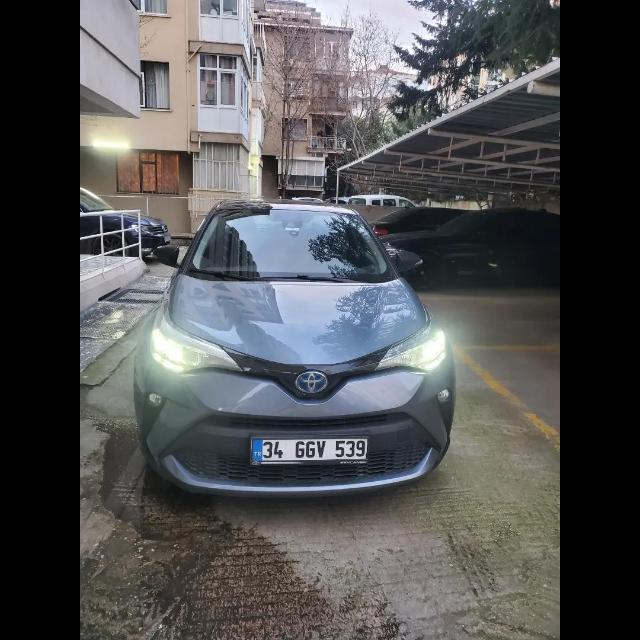Plaka: (255, 437, 369, 459)
